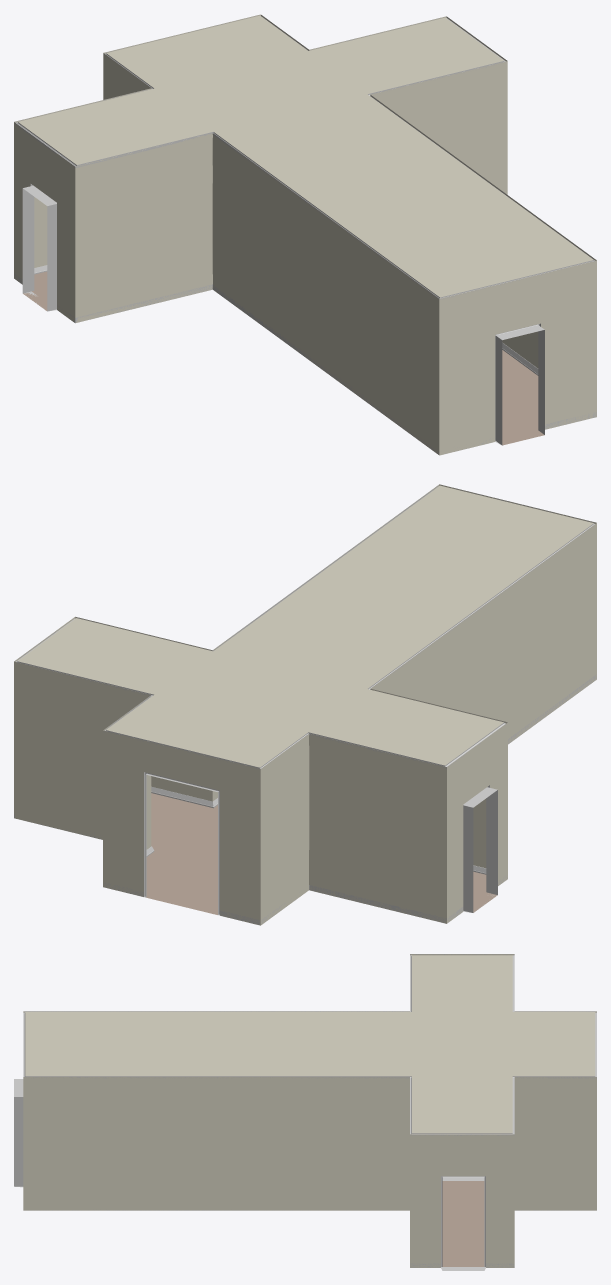
The model's file is EntranceHall_01.fbx.
3 views of the same model, one above another, from view 1: azimuth 30°, elevation 25°; view 2: azimuth 150°, elevation 25°; view 3: azimuth 270°, elevation 25° (orthographic). The views are drawn at different scales.
Parts seen in each view (by area): view 1: EntranceHall; view 2: EntranceHall; view 3: EntranceHall.
Part boxes in pixels (x1,y1,x2,y2): EntranceHall: (14,14,596,455); EntranceHall: (14,484,596,925); EntranceHall: (14,954,596,1270).
Size of the model in its own units: 913 by 305 by 1204.
